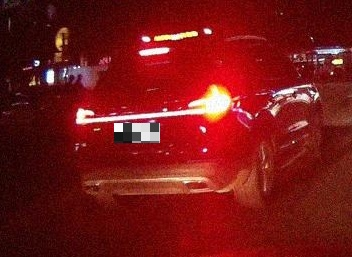L_light: (74, 108, 95, 126)
R_light: (187, 95, 232, 116)
T_light: (138, 46, 171, 57)
night-right: (74, 25, 262, 214)
plate_1: (114, 123, 160, 143)
